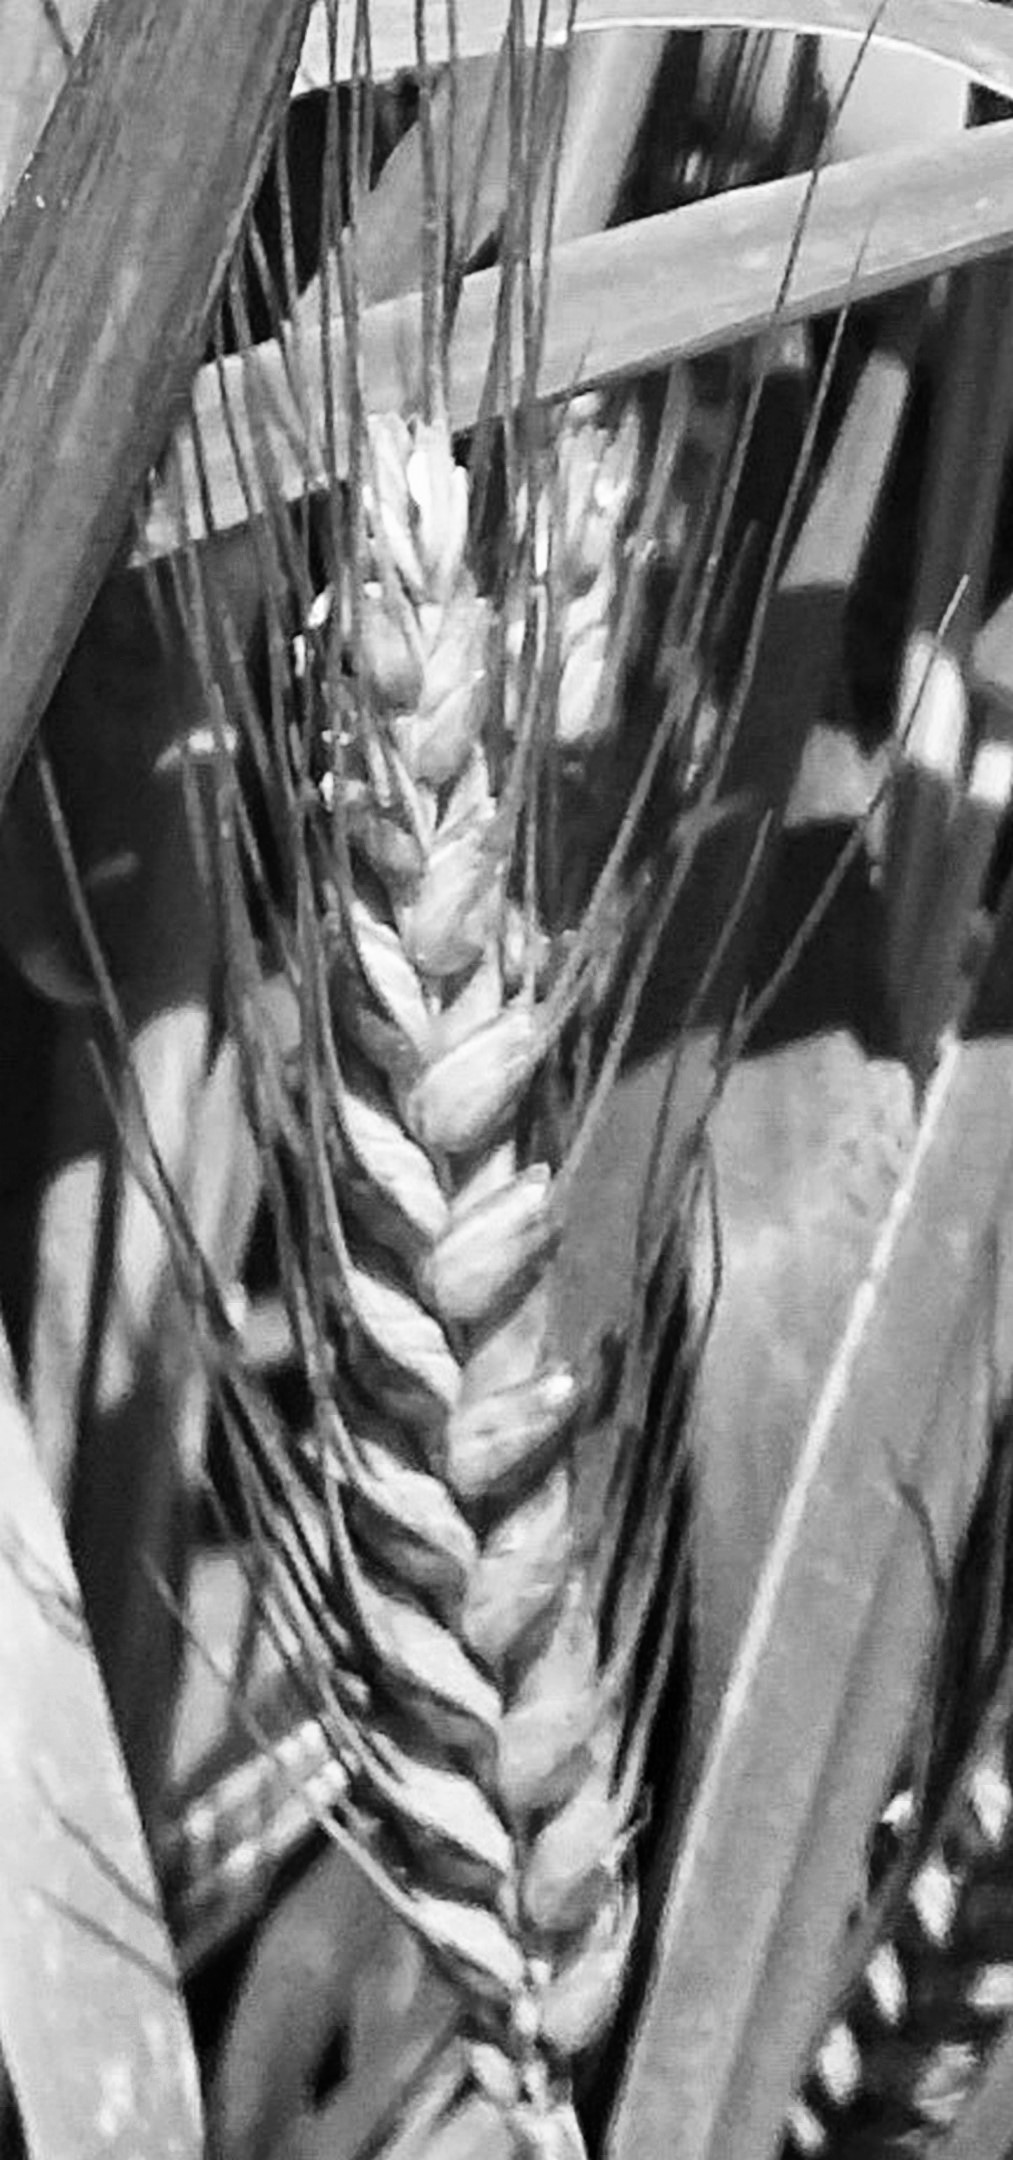Healthy Wheat: (233, 438, 708, 2003)
